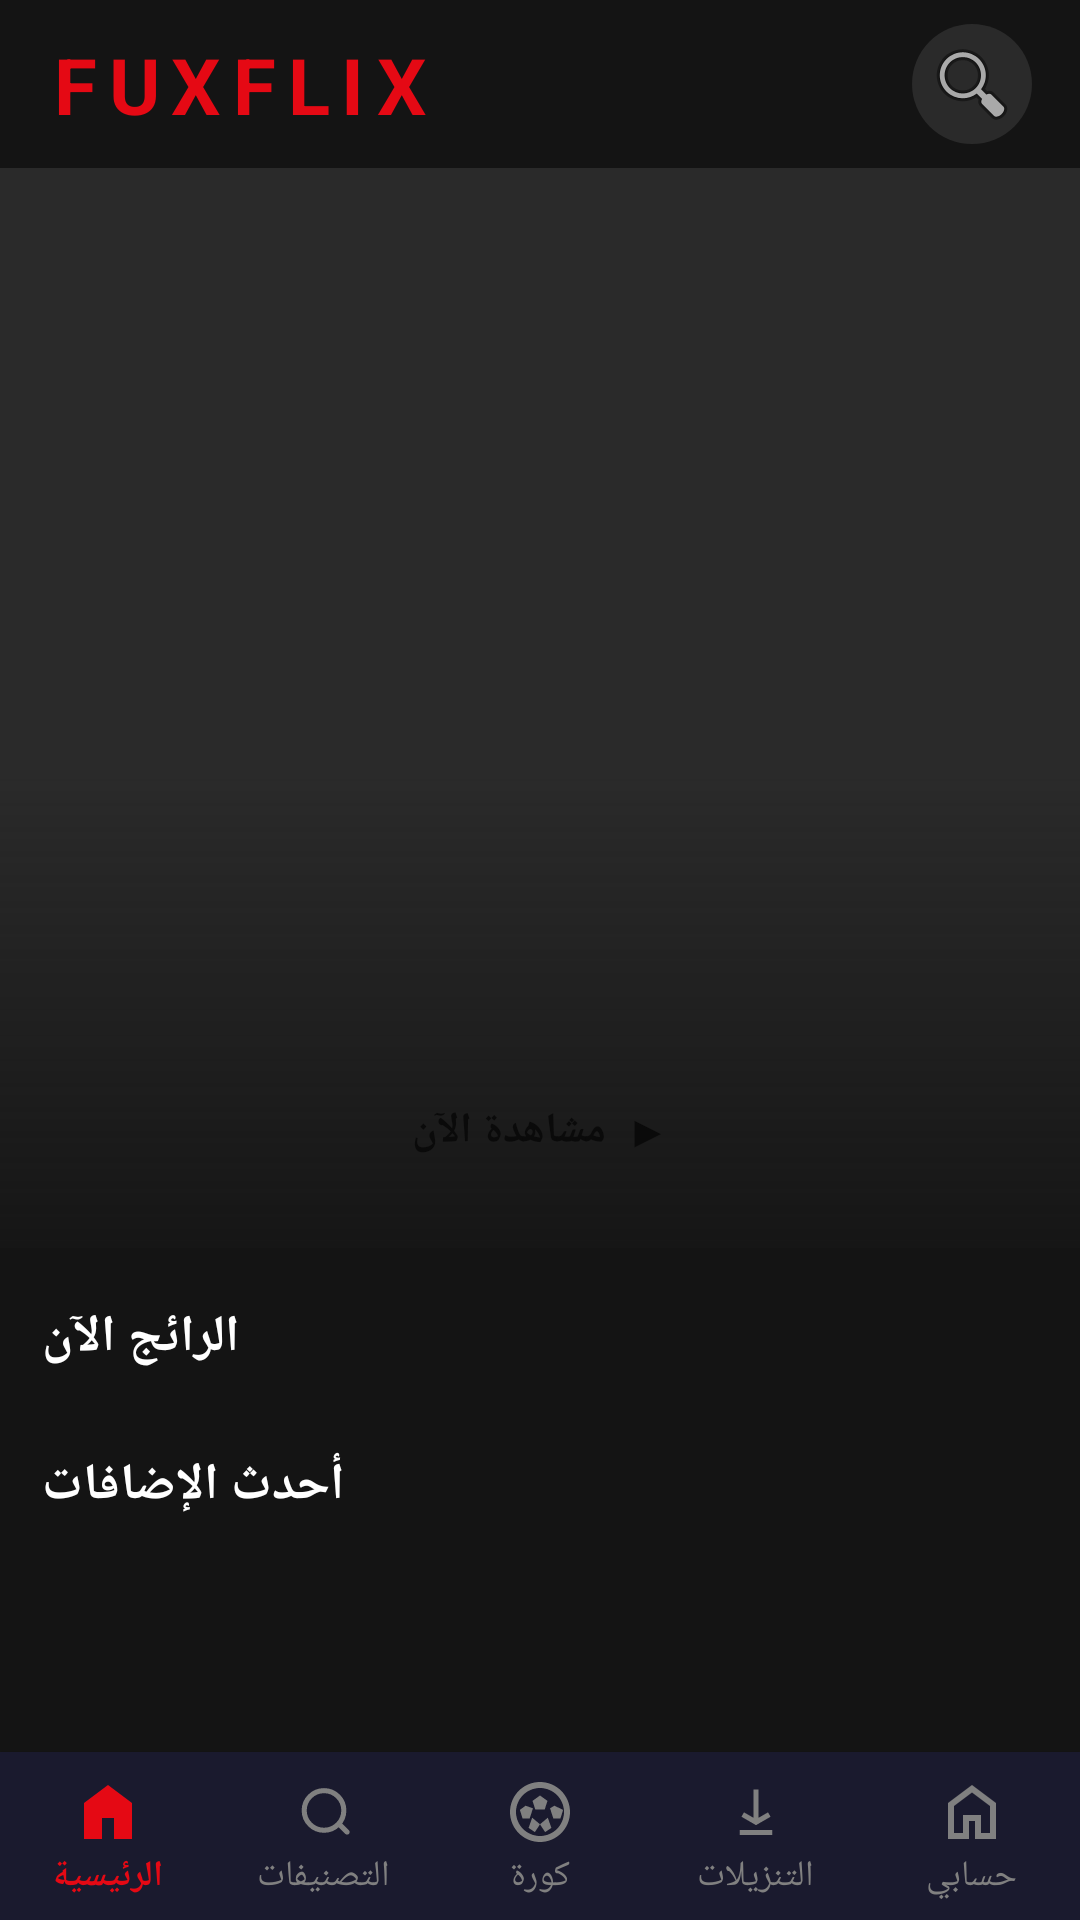

Named icons in this screenshot (1080 × 1920) and their centers, point (x, y):
بحث: point (972, 84)
